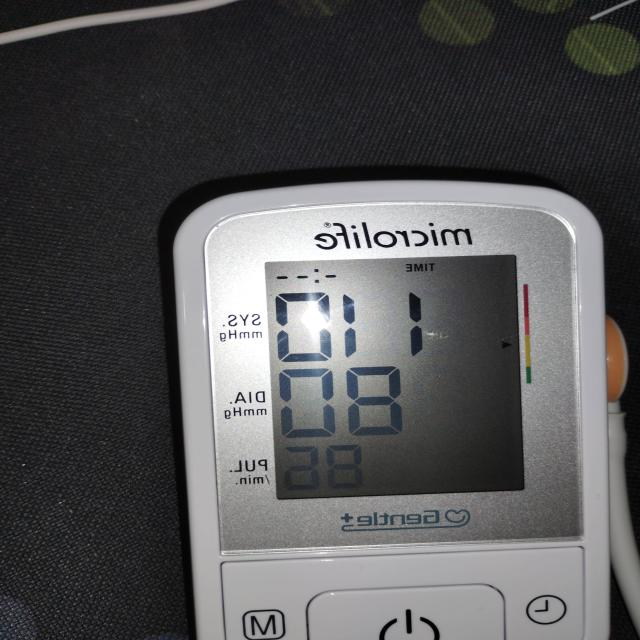bp: (158, 167, 626, 640)
